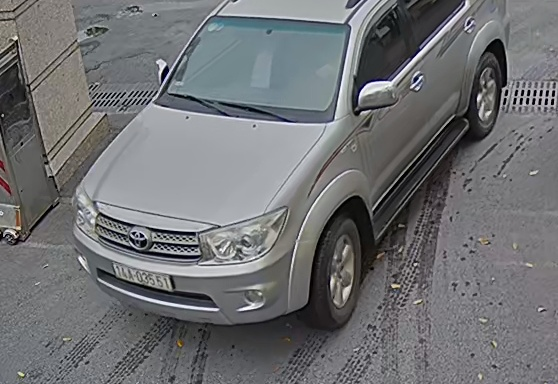vehicle plate: (105, 258, 176, 294)
